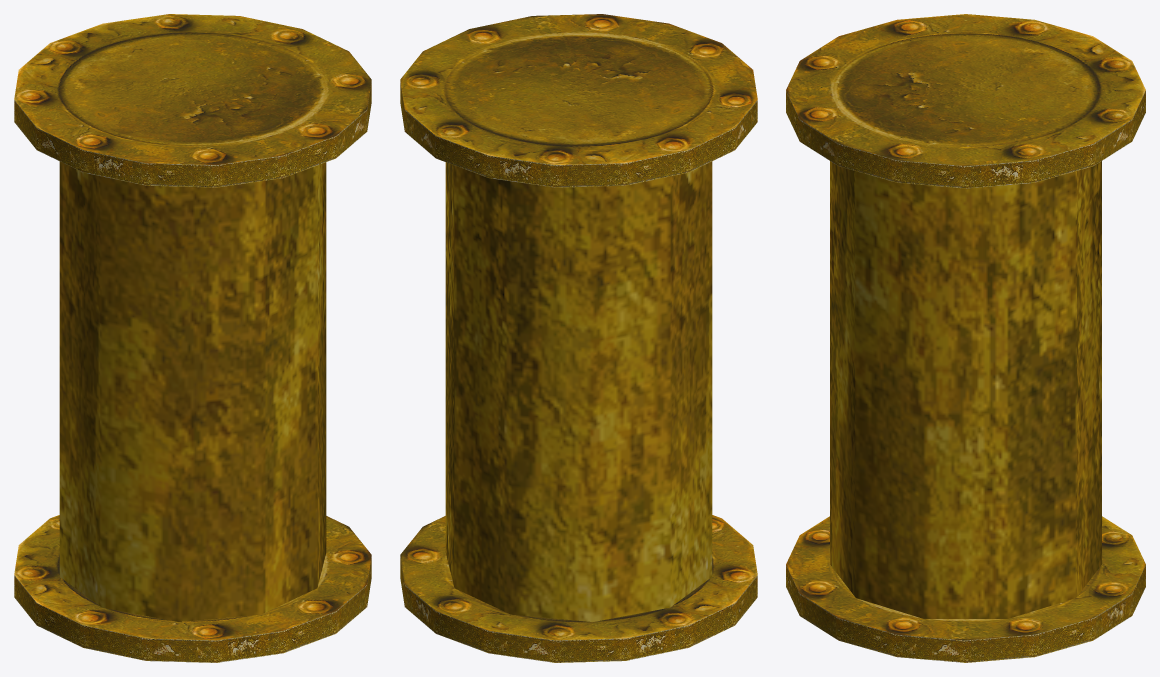
File: 1m_yellow.DAE
3 views of the same model, side by side, from view 1: azimuth 30°, elevation 25°; view 2: azimuth 150°, elevation 25°; view 3: azimuth 270°, elevation 25° (orthographic).
Visible parts, largest first — view 1: Object360, Object368; view 2: Object360, Object368; view 3: Object360, Object368.
Boxes of the visible parts, x1,y1,x2,y2 form: Object360: (59,161,326,621); Object368: (14,14,371,662); Object360: (445,161,712,621); Object368: (400,14,757,662); Object360: (830,161,1101,618); Object368: (786,14,1145,662).
Size of the model in its own units: 0.6566 by 0.6566 by 1.
